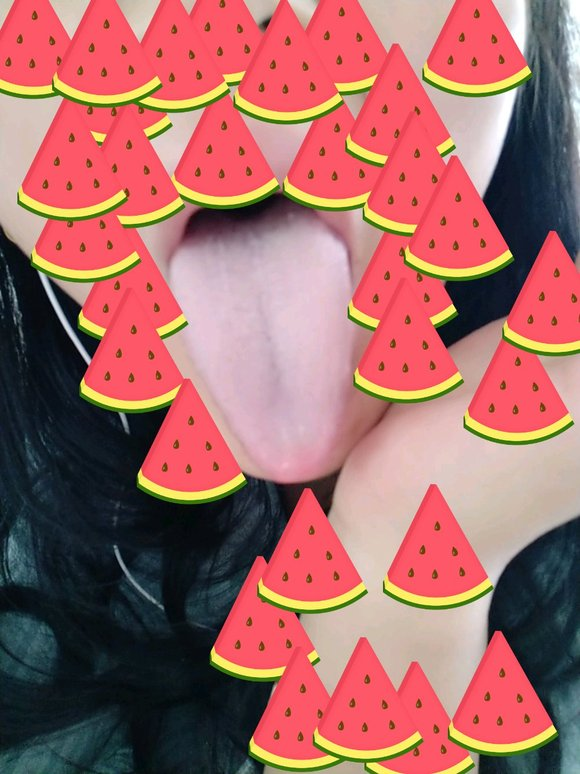baitaishe: (168, 204, 350, 485)
liewenshe: (258, 295, 286, 404)
